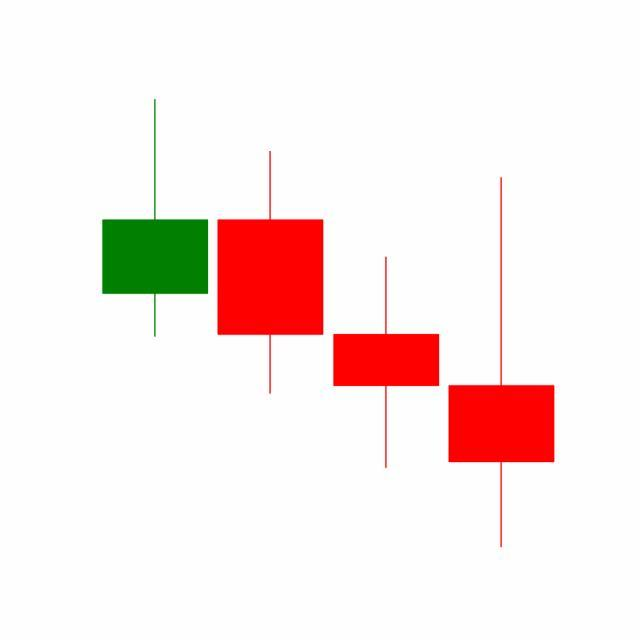Spinning Top: (444, 174, 560, 552)
